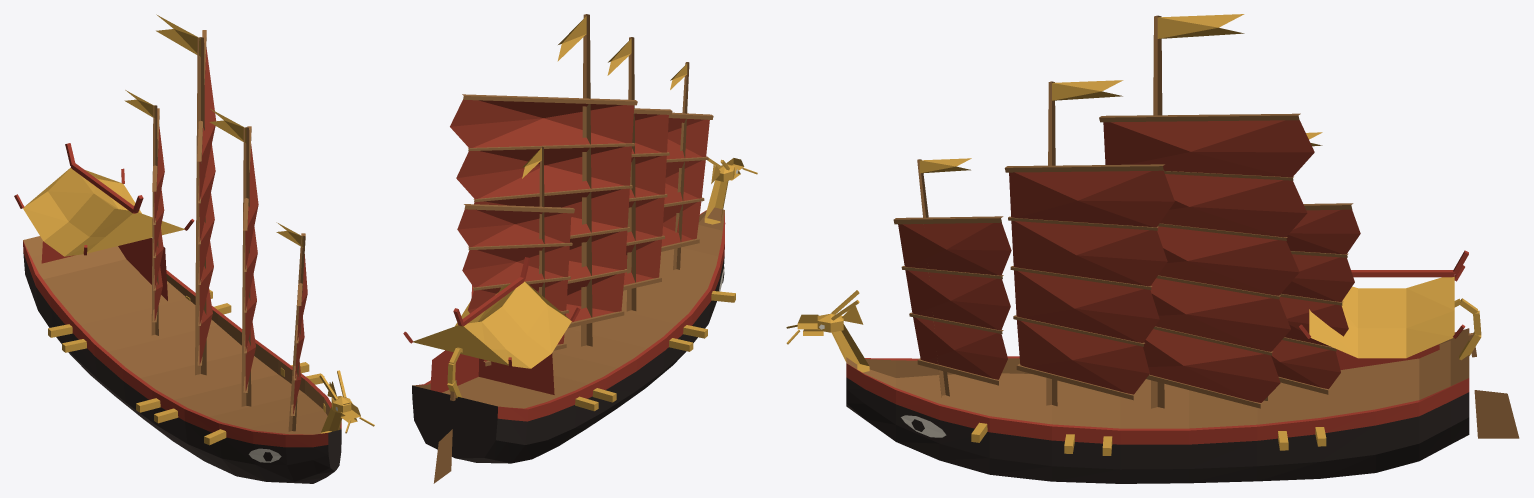
Rendered from ship_dragon.glb.
3 renders of one model, left to right at view 1: azimuth 30°, elevation 25°; view 2: azimuth 150°, elevation 25°; view 3: azimuth 270°, elevation 25°, orthographic. The views are drawn at different scales.
Parts seen in each view (by area): view 1: ship_dragon; view 2: ship_dragon; view 3: ship_dragon.
Part boxes in pixels (bbox=[...]): ship_dragon: bbox=[14, 14, 374, 483]; ship_dragon: bbox=[403, 14, 757, 483]; ship_dragon: bbox=[786, 14, 1519, 483].
Bounding box in the file's own units: 6.58 × 14.36 × 21.17.
